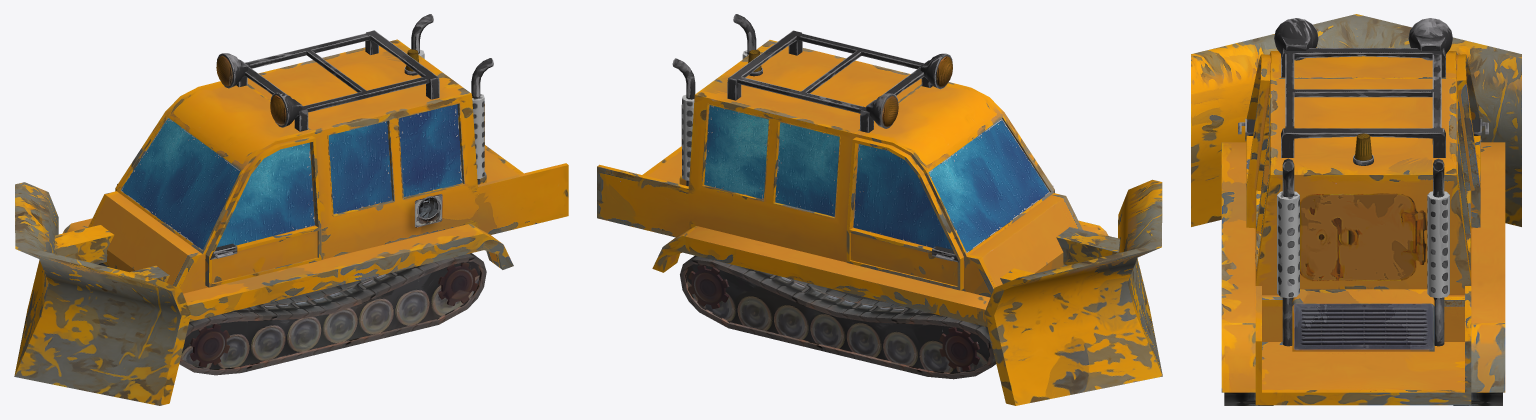
The model's file is snow-plow-01.glb.
3 views of the same model, side by side, from view 1: azimuth 30°, elevation 25°; view 2: azimuth 150°, elevation 25°; view 3: azimuth 270°, elevation 25° (orthographic). The views are drawn at different scales.
Visible parts, largest first — view 1: body, plow, track-inside, track, roof-rails, gear, plow-ledger, exhaust pipe, ligt-top, spere; view 2: body, plow, track-inside, track, roof-rails, gear, plow-ledger, exhaust pipe, ligt-top, spere; view 3: body, plow, exhaust pipe, roof-rails, ligt-top, track, sirane, handles.
Part boxes in pixels (left/top/right/bottom): body: left=62, top=39, right=568, bottom=321; plow: left=14, top=182, right=190, bottom=405; track-inside: left=100, top=261, right=480, bottom=369; track: left=97, top=253, right=486, bottom=375; roof-rails: left=236, top=30, right=439, bottom=131; gear: left=190, top=262, right=478, bottom=367; plow-ledger: left=54, top=225, right=169, bottom=282; exhaust pipe: left=411, top=14, right=493, bottom=184; ligt-top: left=216, top=53, right=302, bottom=127; spere: left=216, top=55, right=286, bottom=125; body: left=597, top=40, right=1108, bottom=326; plow: left=984, top=179, right=1162, bottom=405; track-inside: left=686, top=264, right=989, bottom=372; track: left=680, top=255, right=996, bottom=379; roof-rails: left=727, top=30, right=932, bottom=132; gear: left=688, top=265, right=979, bottom=371; plow-ledger: left=1000, top=227, right=1120, bottom=283; exhaust pipe: left=672, top=14, right=756, bottom=186; ligt-top: left=866, top=53, right=952, bottom=128; spere: left=882, top=56, right=952, bottom=126; body: left=1221, top=51, right=1505, bottom=405; plow: left=1191, top=14, right=1521, bottom=226; exhaust pipe: left=1277, top=158, right=1449, bottom=346; roof-rails: left=1281, top=48, right=1445, bottom=157; ligt-top: left=1274, top=18, right=1452, bottom=60; track: left=1224, top=392, right=1502, bottom=405; sirane: left=1353, top=133, right=1373, bottom=165; handles: left=1238, top=118, right=1488, bottom=141.
Size of the model in its own units: 6.07 by 2.72 by 2.71.
Materials: 4 (4 with a texture image).
